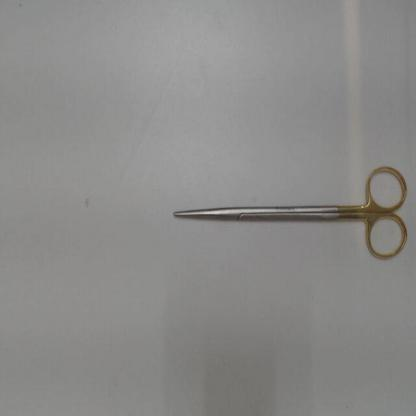7 Metzenbaum Scissors: (173, 160, 409, 264)
